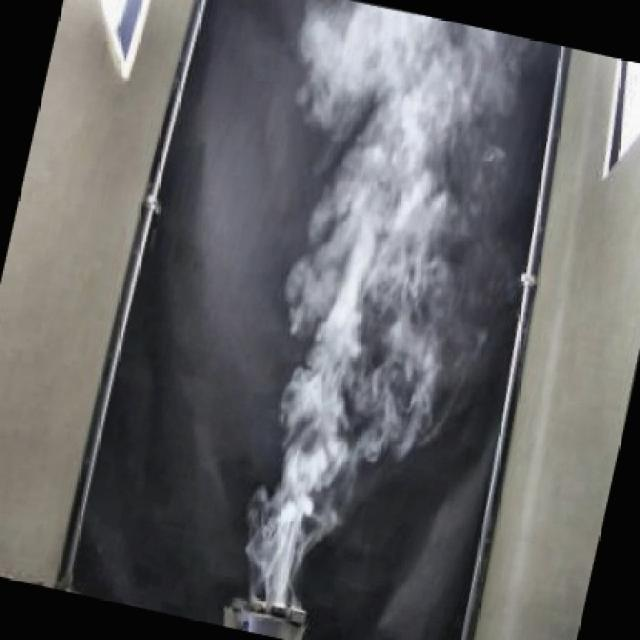smoke: (176, 0, 524, 623)
